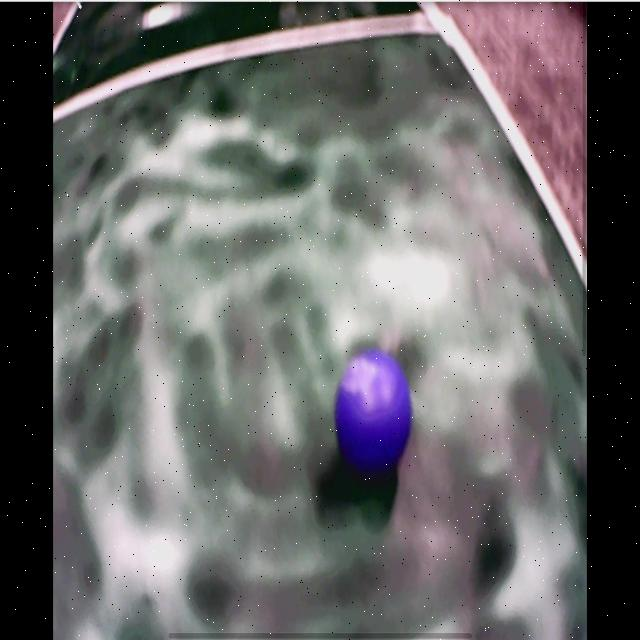ball: (336, 353, 411, 466)
